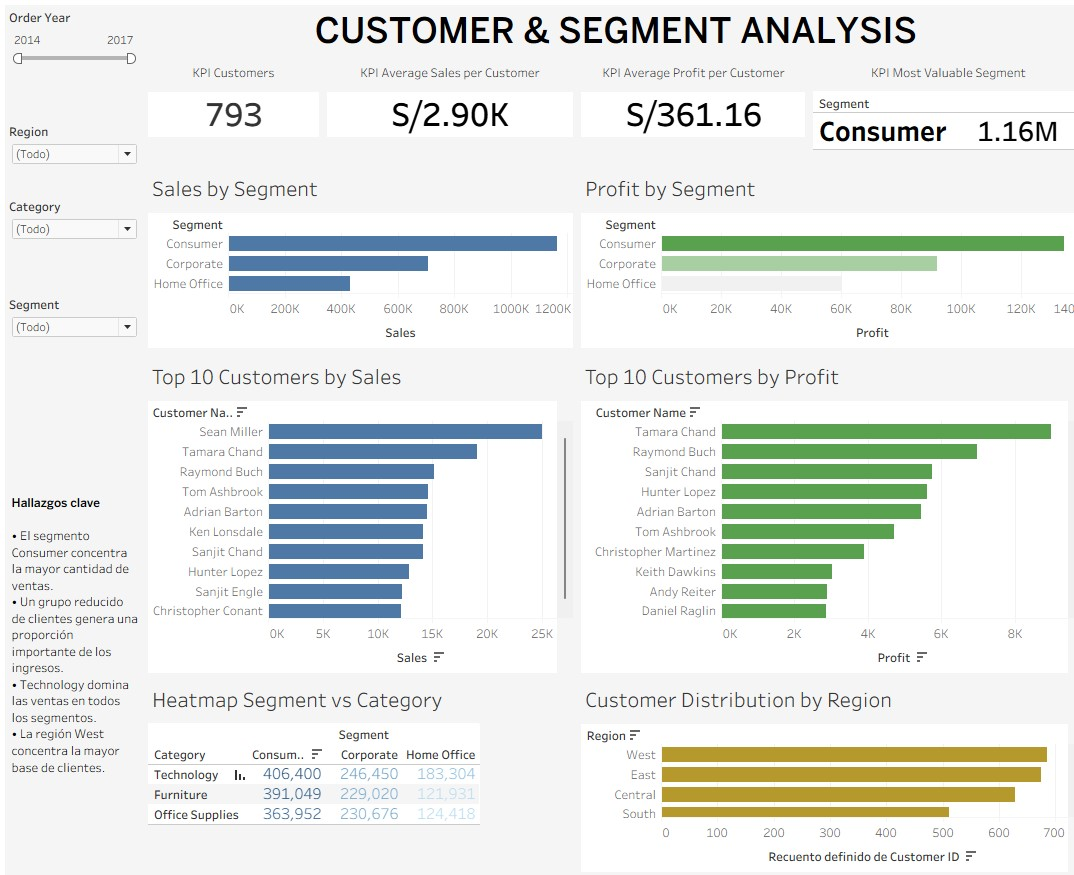

The dashboard page shown, as its layout file describes it:
{"tool":"tableau","page":{"name":"DB Customer & Segment Analysis","canvas":[1000,1000],"units":"permille","ordinal":0},"visuals":[{"type":"filter","title":"Sales by Segment","param":"[federated.03u7p7c1u7dit71fptpzm1i9p30b].[none:Order_Year:qk]","box":[7.3,9,126.5,128.5]},{"type":"text","box":[133.8,9,859,57.5]},{"type":"worksheet","title":"KPI Customers","mark":"Automatic","box":[133.8,66.5,162.4,123.5]},{"type":"worksheet","title":"KPI Average Sales per Customer","mark":"Automatic","box":[296.2,66.5,231.4,123.5]},{"type":"worksheet","title":"KPI Average Profit per Customer","mark":"Automatic","box":[527.6,66.5,211.6,123.5]},{"type":"worksheet","title":"KPI Most Valuable Segment","mark":"Automatic","rows":["Segment"],"box":[739.2,66.5,253.6,123.5]},{"type":"filter","title":"Customer Distribution by Region","param":"[federated.03u7p7c1u7dit71fptpzm1i9p30b].[none:Region:nk]","box":[7.3,137.5,126.5,84.6]},{"type":"worksheet","title":"Sales by Segment","mark":"Automatic","rows":["Segment"],"cols":["Sales"],"box":[133.8,190.1,394.2,212.4]},{"type":"worksheet","title":"Profit by Segment","mark":"Automatic","rows":["Segment"],"cols":["Profit"],"box":[527.9,190.1,464.8,212.4]},{"type":"filter","title":"Heatmap Segment vs Category","param":"[federated.03u7p7c1u7dit71fptpzm1i9p30b].[none:Category:nk]","box":[7.3,222.1,126.5,110.5]},{"type":"filter","title":"Profit by Segment","param":"[federated.03u7p7c1u7dit71fptpzm1i9p30b].[none:Segment:nk]","box":[7.3,332.6,126.5,125.1]},{"type":"worksheet","title":"Top 10 Customers by Sales","mark":"Automatic","rows":["Customer_Name"],"cols":["Sales"],"box":[133.8,402.5,394.2,364.2]},{"type":"worksheet","title":"Top 10 Customers by Profit","mark":"Automatic","rows":["Customer_Name"],"cols":["Profit"],"box":[527.9,402.5,464.8,364.2]},{"type":"text","box":[7.3,457.7,126.5,533.2]},{"type":"worksheet","title":"Heatmap Segment vs Category","mark":"Automatic","rows":["Category"],"cols":["Segment"],"box":[133.8,766.6,394.2,224.3]},{"type":"worksheet","title":"Customer Distribution by Region","mark":"Automatic","rows":["Region"],"cols":["Customer_ID"],"box":[527.9,766.6,464.8,224.3]}]}

Visuals, with their boxes on the dashboard's canvas, which has no fixed pixel size, in thousandths of its width and height (x1, y1, x2, y2). These are canvas units, not pixel positions in the 1074x875 screenshot, which may show the page scaled, cropped or inside an application window:
"Sales by Segment" filter: x1=7 y1=9 x2=134 y2=138
text: x1=134 y1=9 x2=993 y2=66
"KPI Customers" worksheet: x1=134 y1=66 x2=296 y2=190
"KPI Average Sales per Customer" worksheet: x1=296 y1=66 x2=528 y2=190
"KPI Average Profit per Customer" worksheet: x1=528 y1=66 x2=739 y2=190
"KPI Most Valuable Segment" worksheet: x1=739 y1=66 x2=993 y2=190
"Customer Distribution by Region" filter: x1=7 y1=138 x2=134 y2=222
"Sales by Segment" worksheet: x1=134 y1=190 x2=528 y2=402
"Profit by Segment" worksheet: x1=528 y1=190 x2=993 y2=402
"Heatmap Segment vs Category" filter: x1=7 y1=222 x2=134 y2=333
"Profit by Segment" filter: x1=7 y1=333 x2=134 y2=458
"Top 10 Customers by Sales" worksheet: x1=134 y1=402 x2=528 y2=767
"Top 10 Customers by Profit" worksheet: x1=528 y1=402 x2=993 y2=767
text: x1=7 y1=458 x2=134 y2=991
"Heatmap Segment vs Category" worksheet: x1=134 y1=767 x2=528 y2=991
"Customer Distribution by Region" worksheet: x1=528 y1=767 x2=993 y2=991
